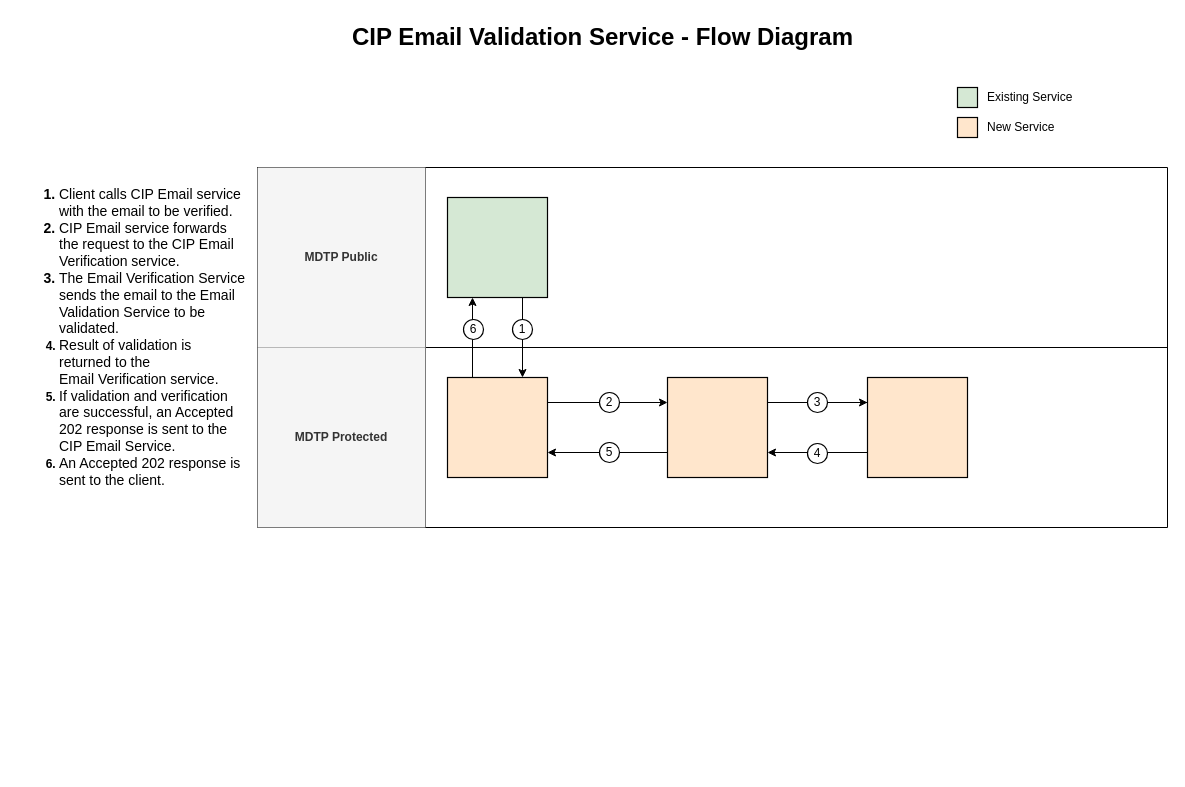
Some shapes in this 1185 by 787 pixel diagram are drawn without their labels. The centre of each missing label's shape, as x and y in pixels:
CIP Email Service: (x=497, y=427)
CIP Email Validation Service: (x=917, y=427)
CIP Email Verification Service: (x=717, y=427)
Client: (x=497, y=247)
